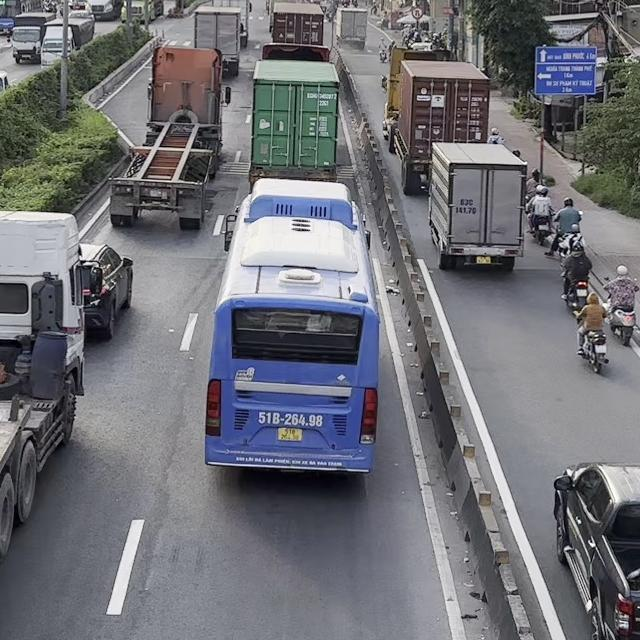bus: (203, 177, 380, 475)
car: (552, 461, 639, 639), (78, 242, 133, 340)
motorcycle: (572, 301, 610, 374), (602, 276, 639, 346), (559, 253, 591, 316), (525, 194, 553, 246), (379, 48, 387, 62)
truck: (0, 209, 103, 563), (108, 41, 231, 230), (381, 47, 490, 195), (420, 141, 528, 271), (248, 43, 340, 190), (192, 6, 244, 77), (269, 2, 324, 45), (211, 0, 252, 47), (335, 7, 368, 50)
